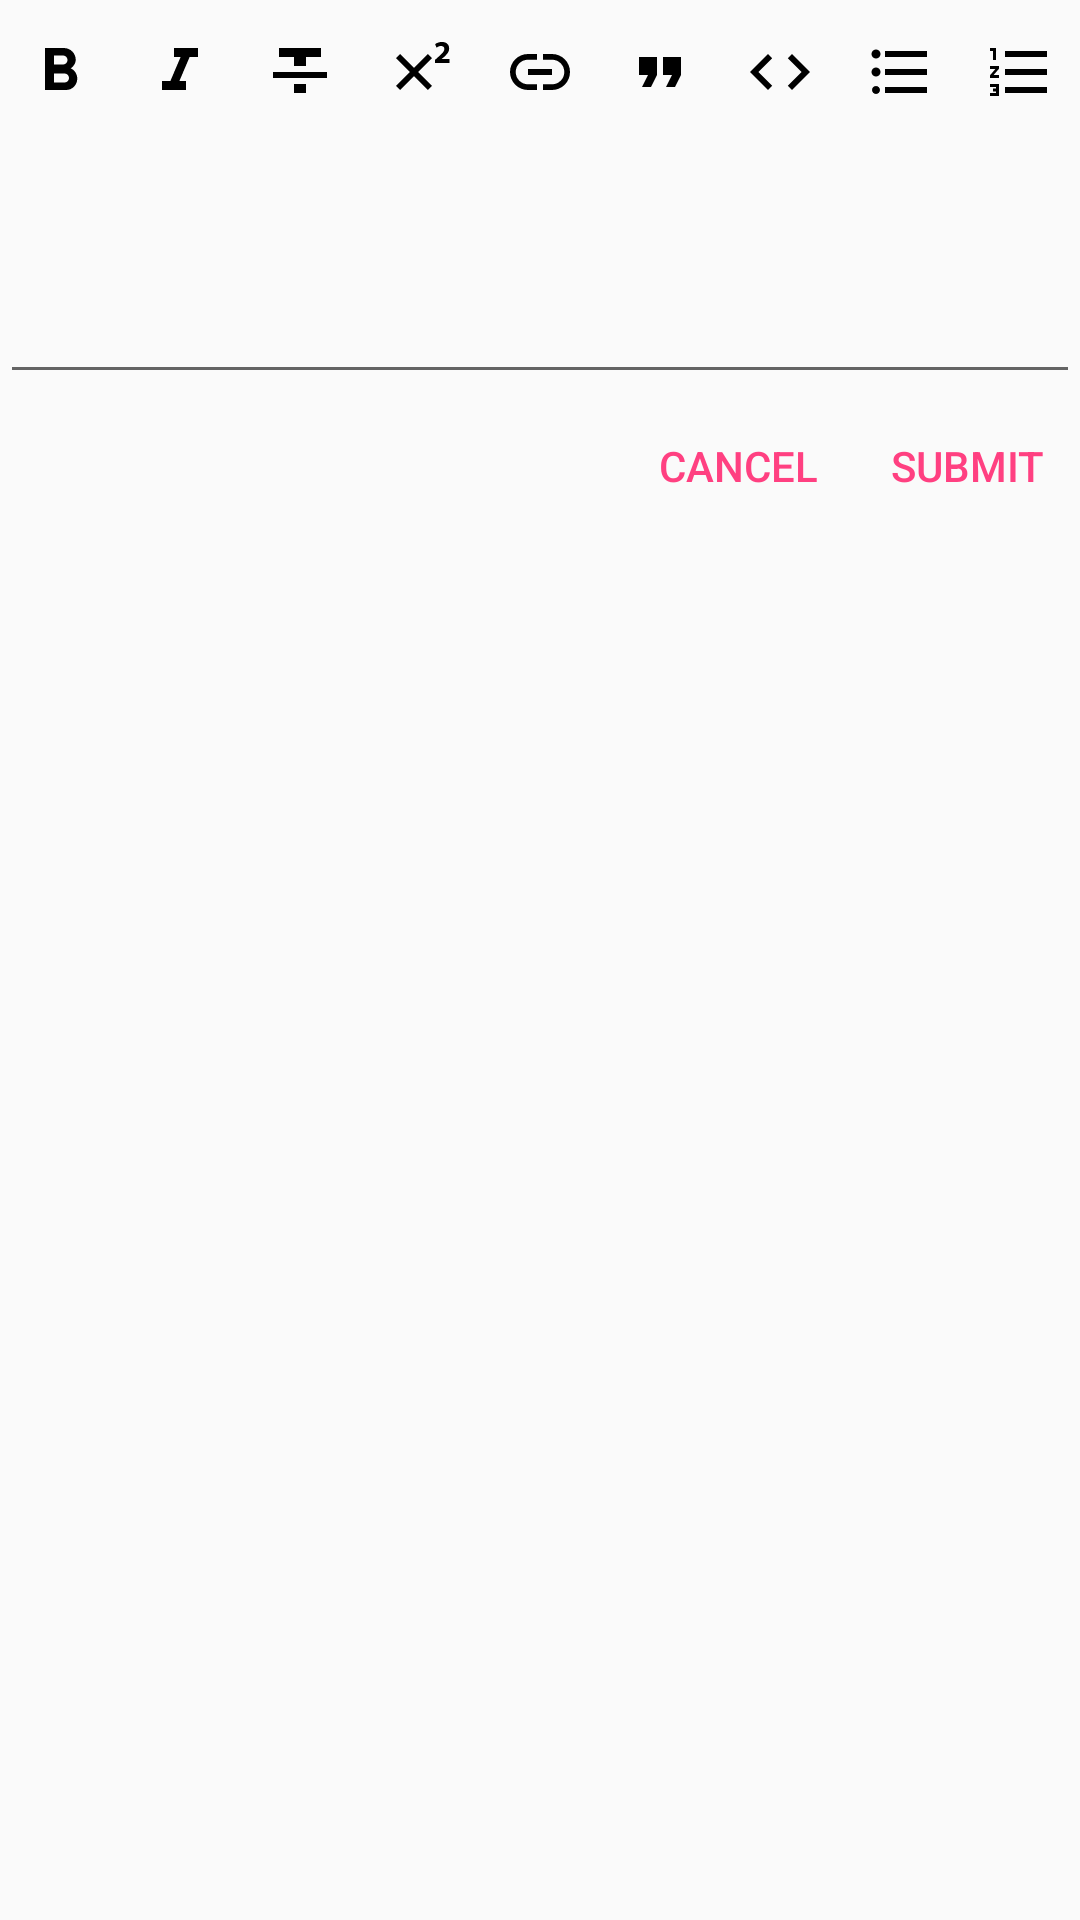

Named icons in this screenshot (1080px×1920px) and their centers, [x,y]:
code tags: [780,72]
format: [61,69]
format italic: [180,69]
format list bulleted: [899,71]
format list numbers: [1018,72]
format quote: [660,72]
format strikethrough: [300,70]
format superscript: [423,66]
link: [540,72]
